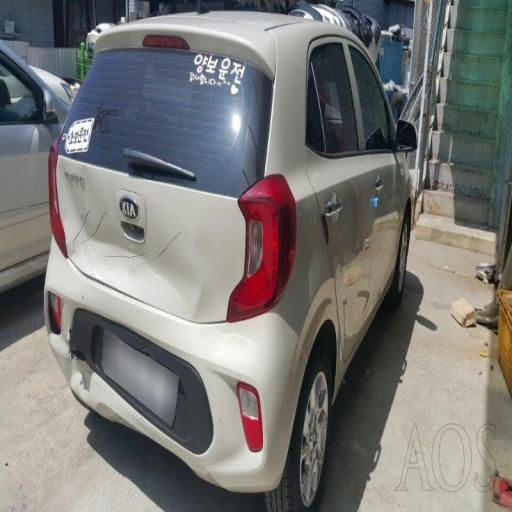dent: (62, 141, 240, 311), (56, 309, 194, 451)
scratch: (66, 198, 199, 281)
